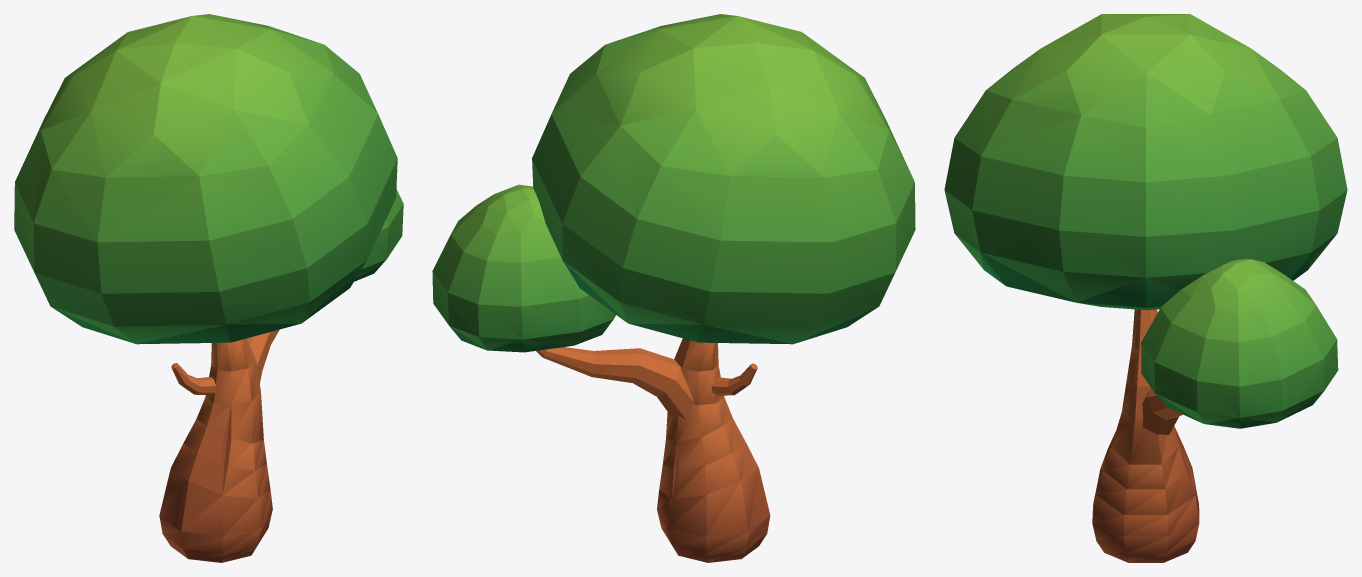
File: kf_tree_1_b.fbx
3 renders of one model, left to right at view 1: azimuth 30°, elevation 25°; view 2: azimuth 150°, elevation 25°; view 3: azimuth 270°, elevation 25°, orthographic.
Visible parts, largest first — view 1: kf_tree_1_b_LOD0; view 2: kf_tree_1_b_LOD0; view 3: kf_tree_1_b_LOD0.
Boxes of the visible parts, x1,y1,x2,y2 form: kf_tree_1_b_LOD0: (14, 14, 403, 562); kf_tree_1_b_LOD0: (432, 14, 915, 562); kf_tree_1_b_LOD0: (944, 14, 1347, 562).
Size of what is drawn, in the model's own units: 4.61 by 5.67 by 3.96.
1 material, 1 textured.
